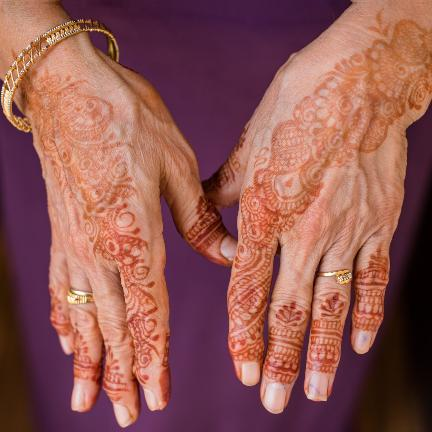Nail: (263, 382, 287, 414), (307, 373, 329, 401), (353, 330, 373, 354), (241, 361, 260, 386), (113, 403, 132, 428), (220, 234, 237, 261), (71, 383, 85, 411), (143, 388, 158, 411), (59, 335, 73, 355), (121, 431, 126, 432)
